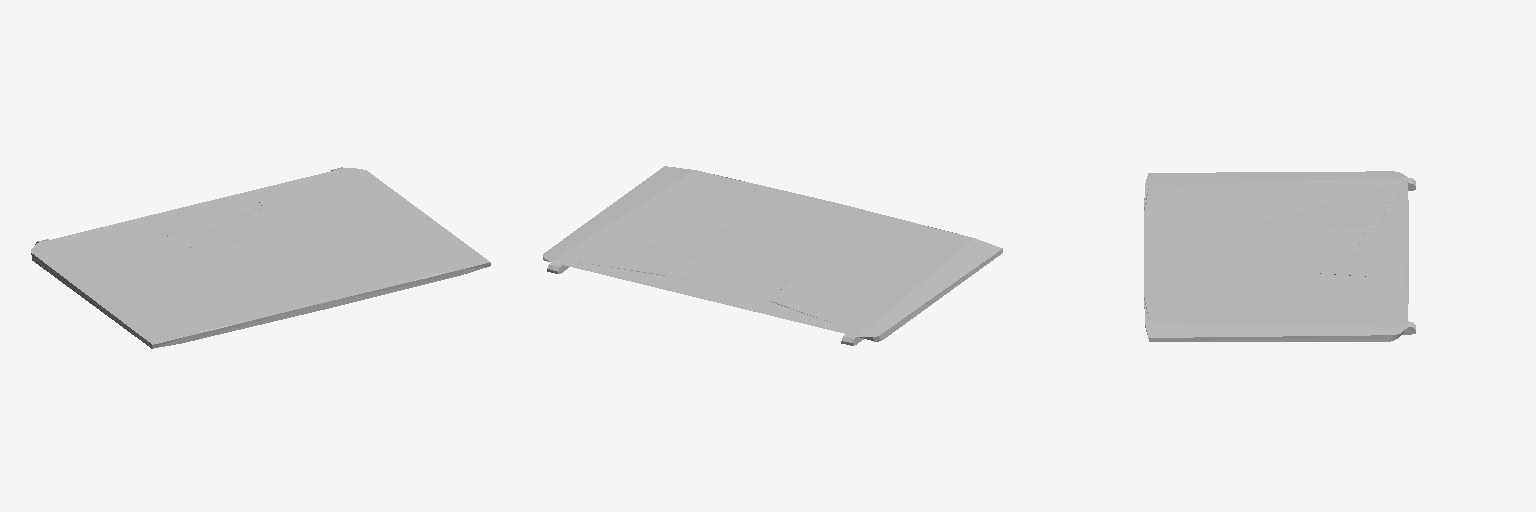
Rendered from top.obj.
3 views of the same model, side by side, from view 1: azimuth 30°, elevation 25°; view 2: azimuth 150°, elevation 25°; view 3: azimuth 270°, elevation 25° (orthographic).
Parts seen in each view (by area): view 1: Top_Cube.008; view 2: Top_Cube.008; view 3: Top_Cube.008.
Part boxes in pixels (x1,y1,x2,y2): Top_Cube.008: (31,167,490,348); Top_Cube.008: (543,166,1002,345); Top_Cube.008: (1144,171,1415,341).
Size of the model in its own units: 2.96 by 0.074 by 2.06.